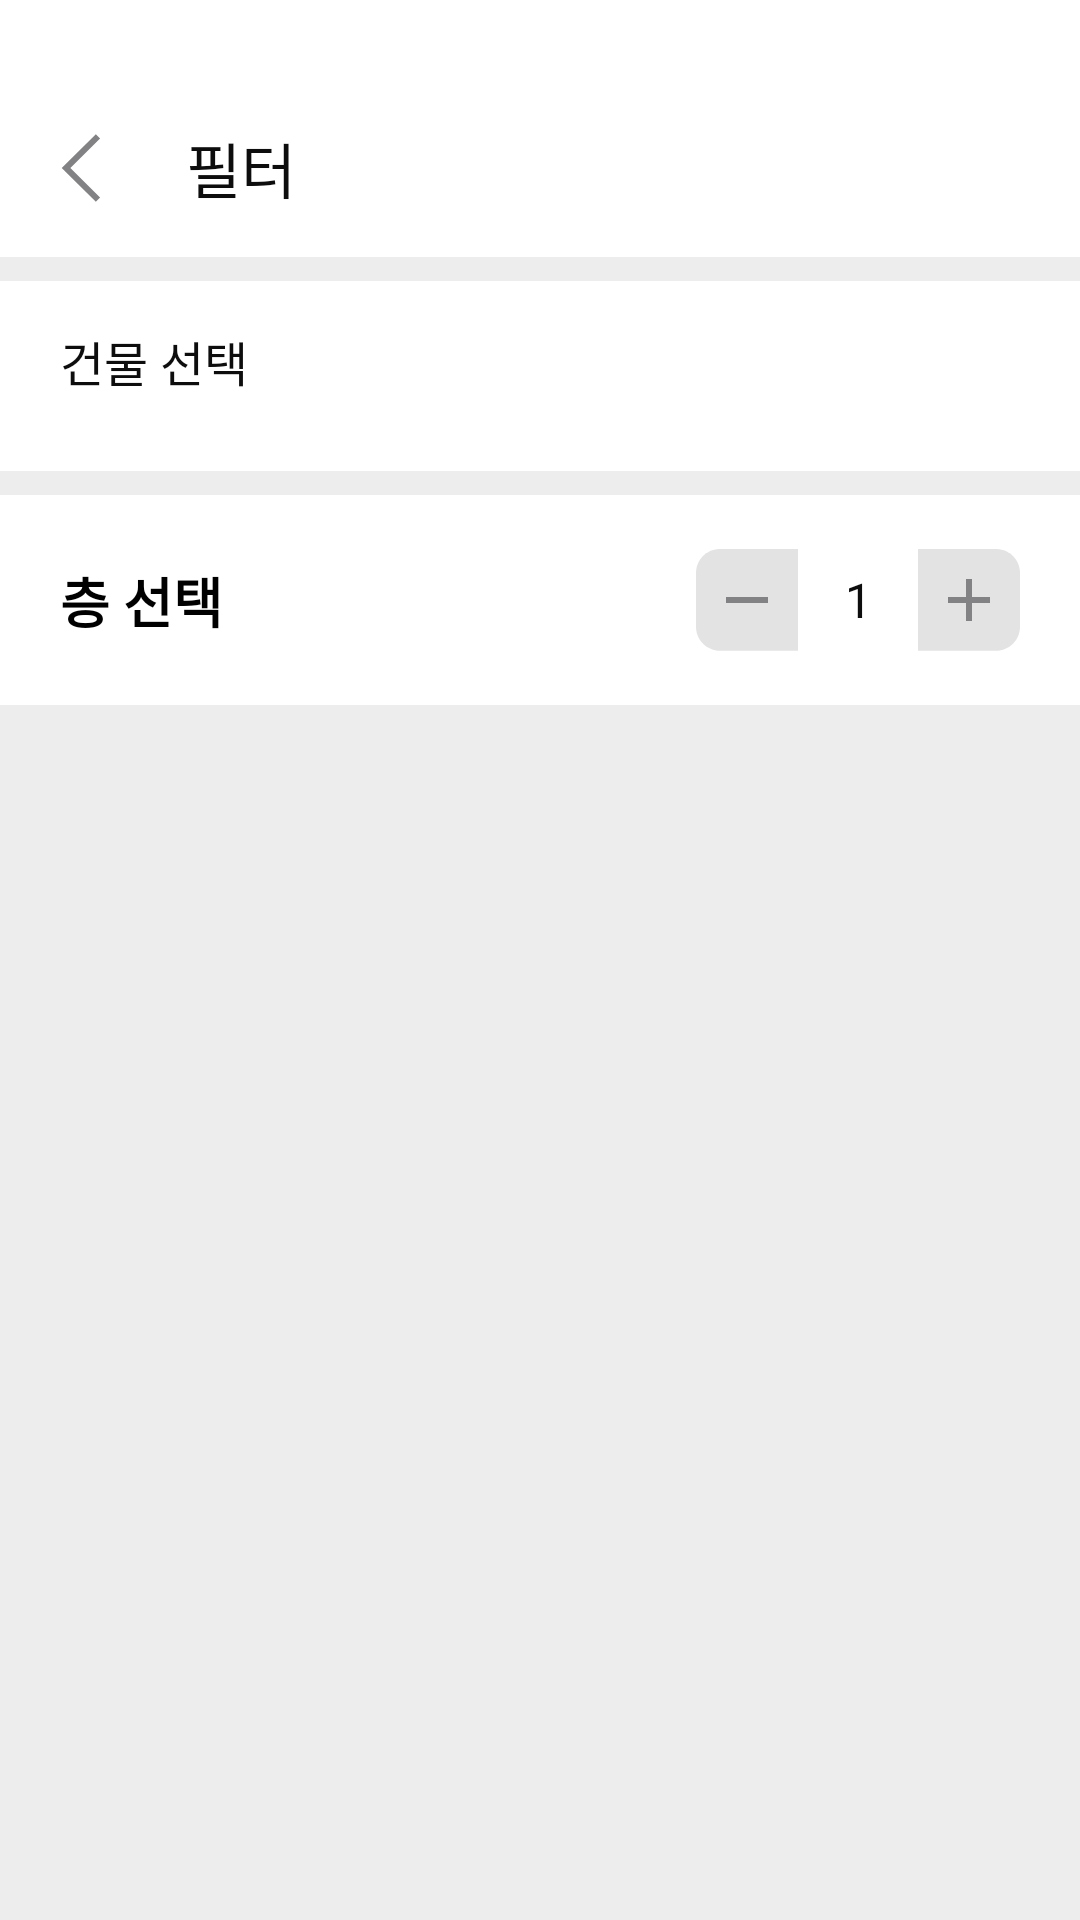

Icons on this 1080px x 1920px Android screen, each with the point to tap as (x,y):
back: (81,168)
minus: (747,599)
plus: (969,599)
